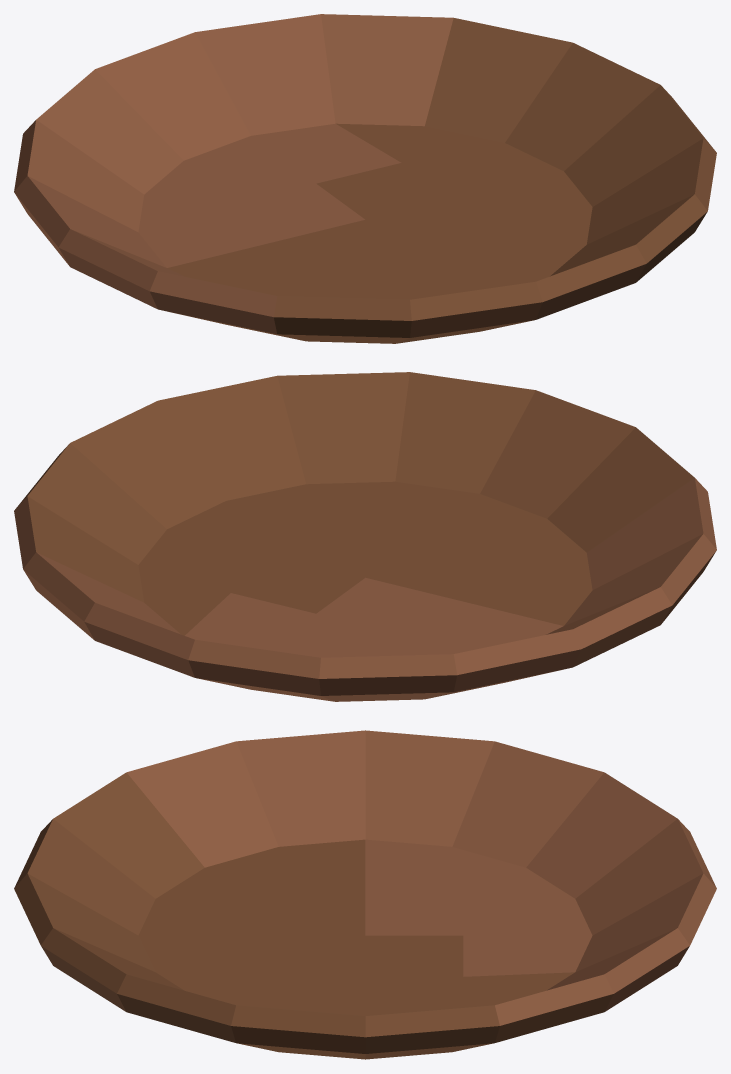
Rendered from fixed_shallow_plate.glb.
3 views of the same model, one above another, from view 1: azimuth 30°, elevation 25°; view 2: azimuth 150°, elevation 25°; view 3: azimuth 270°, elevation 25° (orthographic).
Visible parts, largest first — view 1: ShallowPlate; view 2: ShallowPlate; view 3: ShallowPlate.
Part boxes in pixels (x1,y1,x2,y2): ShallowPlate: [14, 14, 716, 343]; ShallowPlate: [14, 372, 716, 701]; ShallowPlate: [14, 730, 716, 1059].
Size of the model in its own units: 0.25 by 0.0354 by 0.25.
